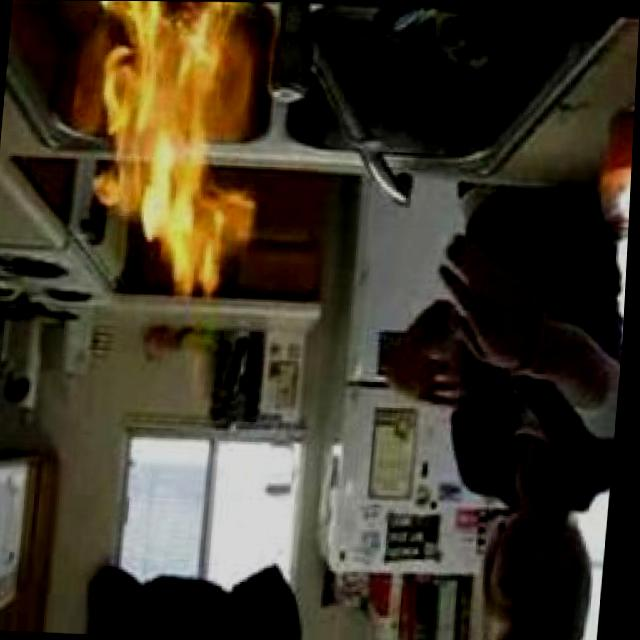helmet: (81, 1, 269, 299)
